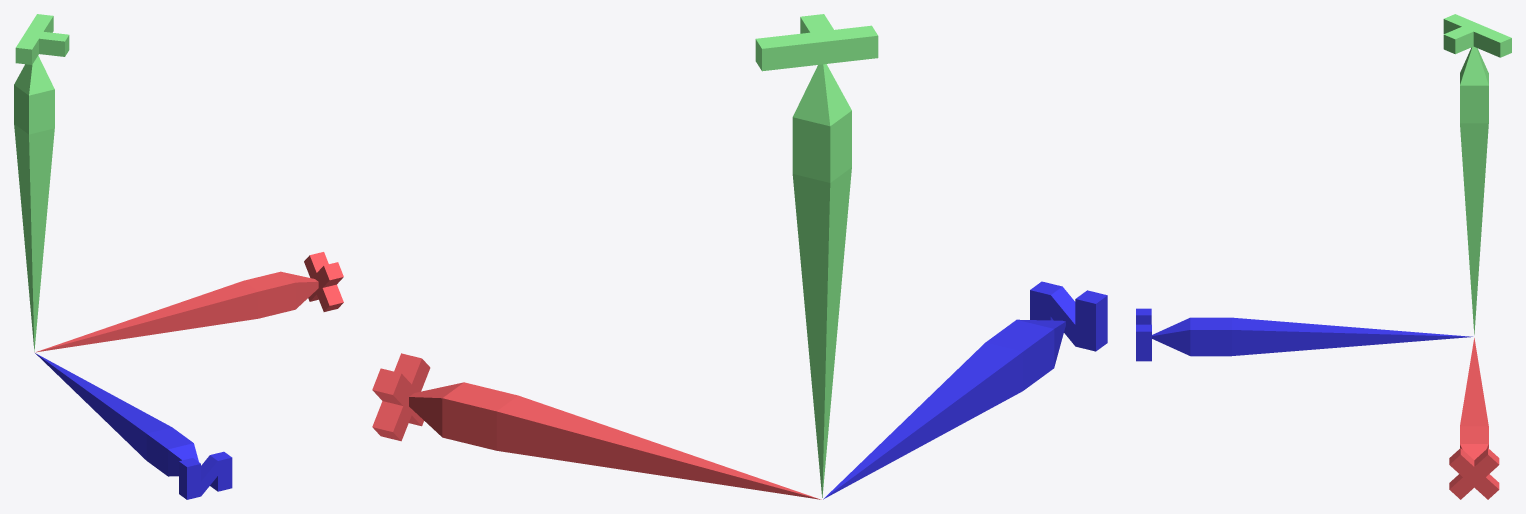
Rendered from axis_grey.obj.
3 renders of one model, left to right at view 1: azimuth 30°, elevation 25°; view 2: azimuth 150°, elevation 25°; view 3: azimuth 270°, elevation 25°, orthographic. The views are drawn at different scales.
Visible parts, largest first — view 1: Cube; view 2: Cube; view 3: Cube.
Part boxes in pixels (left/top/right/bottom): Cube: left=14, top=14, right=343, bottom=499; Cube: left=372, top=14, right=1107, bottom=499; Cube: left=1136, top=14, right=1511, bottom=499.
Size of the model in its own units: 0.2513 by 0.2528 by 0.2594.
